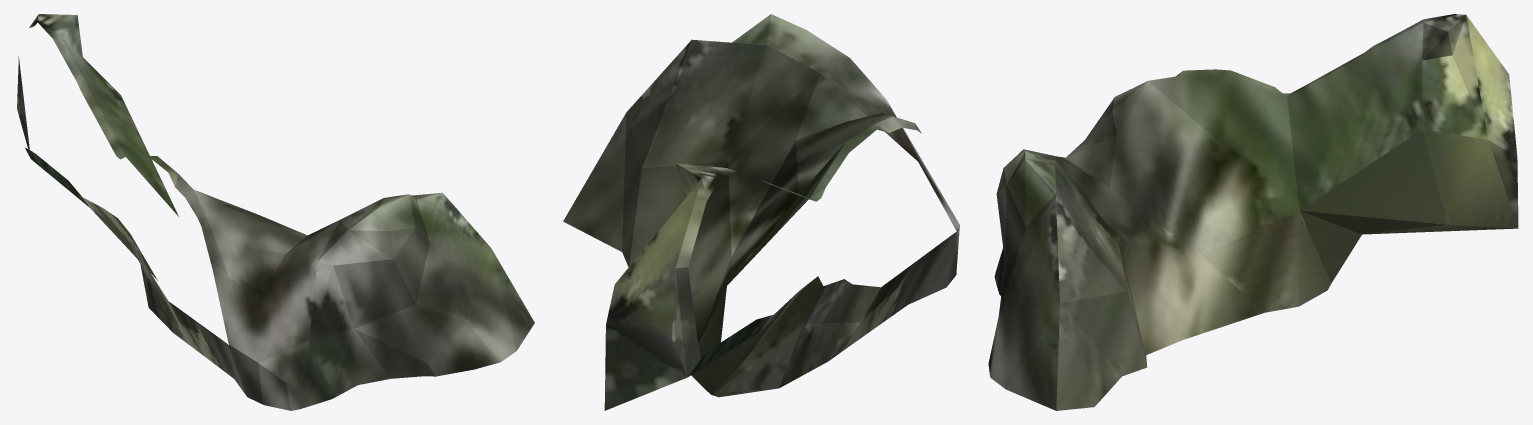
3 renders of one model, left to right at view 1: azimuth 30°, elevation 25°; view 2: azimuth 150°, elevation 25°; view 3: azimuth 270°, elevation 25°, orthographic. The views are drawn at different scales.
Bounding box in the file's own units: 0.9053 × 0.6712 × 1.31.
Materials: 1 (1 with a texture image).
